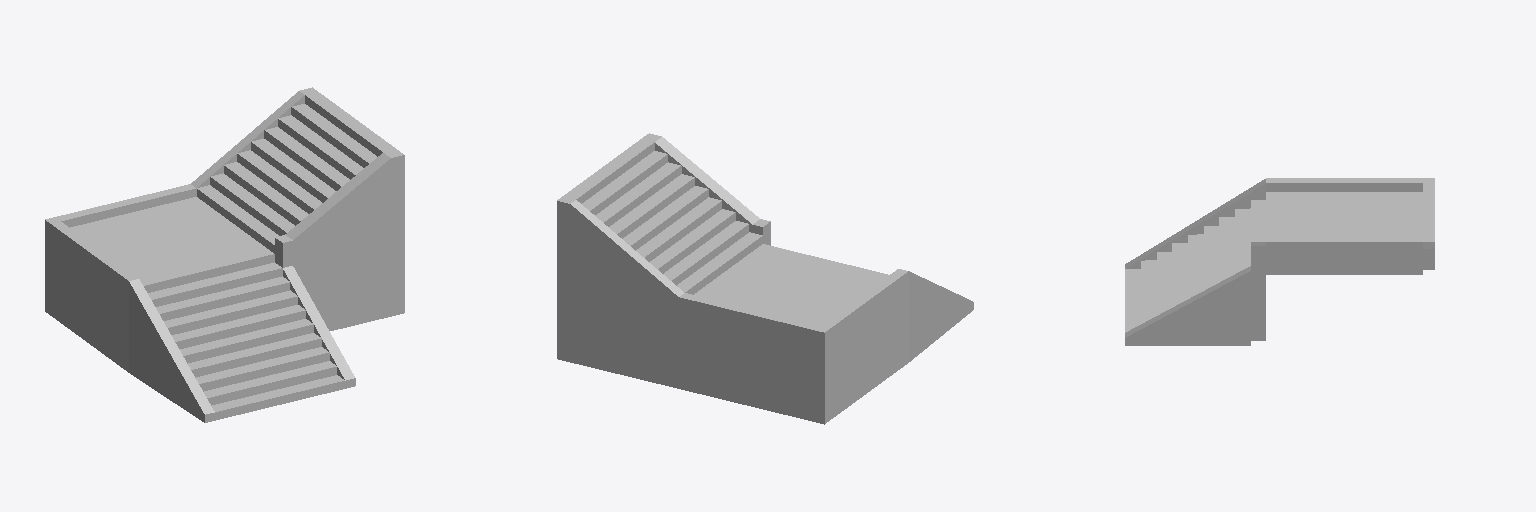
The model's file is SM_escalier_angle_THD.obj.
The picture shows the model from 3 angles: view 1: azimuth 30°, elevation 25°; view 2: azimuth 150°, elevation 25°; view 3: azimuth 270°, elevation 25°; orthographic projection.
Visible parts, largest first — view 1: LTypeStair001; view 2: LTypeStair001; view 3: LTypeStair001.
Part boxes in pixels (left/top/right/bottom): LTypeStair001: left=45, top=87, right=404, bottom=422; LTypeStair001: left=557, top=133, right=973, bottom=424; LTypeStair001: left=1125, top=178, right=1434, bottom=345.
Size of the model in its own units: 8.4 by 4.75 by 8.4.